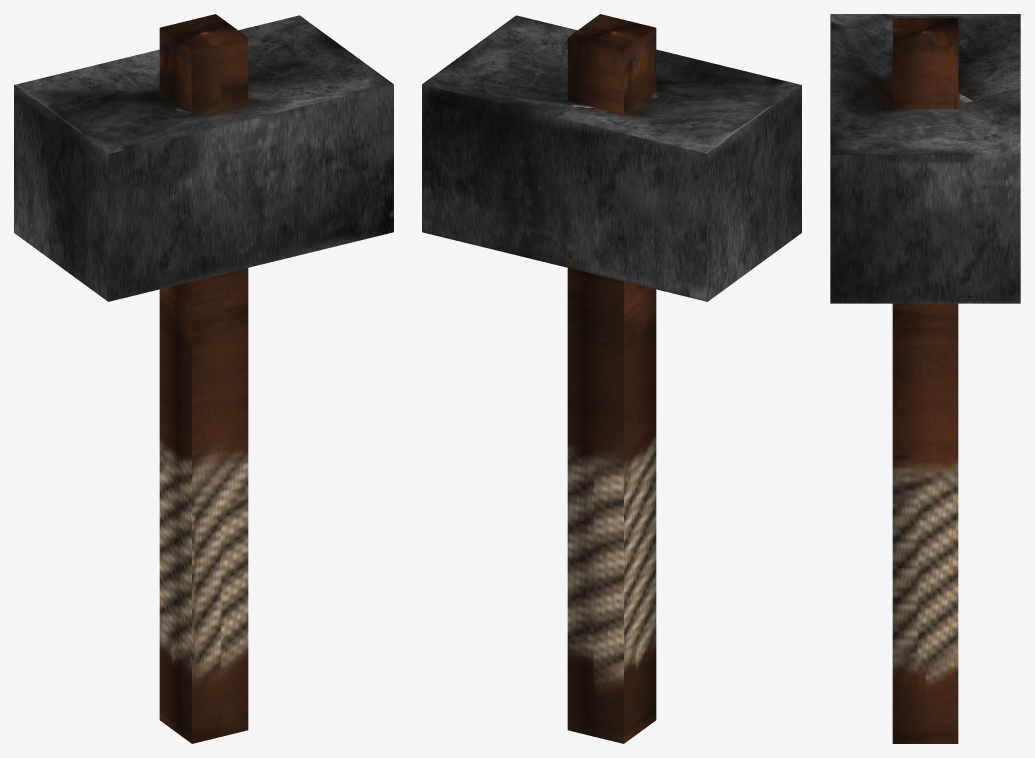
Rendered from Hammer.fbx.
3 renders of one model, left to right at view 1: azimuth 30°, elevation 25°; view 2: azimuth 150°, elevation 25°; view 3: azimuth 270°, elevation 25°, orthographic.
Visible parts, largest first — view 1: Cube; view 2: Cube; view 3: Cube.
Boxes of the visible parts, x1,y1,x2,y2 form: Cube: (14, 14, 393, 743); Cube: (422, 14, 801, 743); Cube: (830, 14, 1020, 743).
Bounding box in the file's own units: 79.6 × 184 × 45.52.
